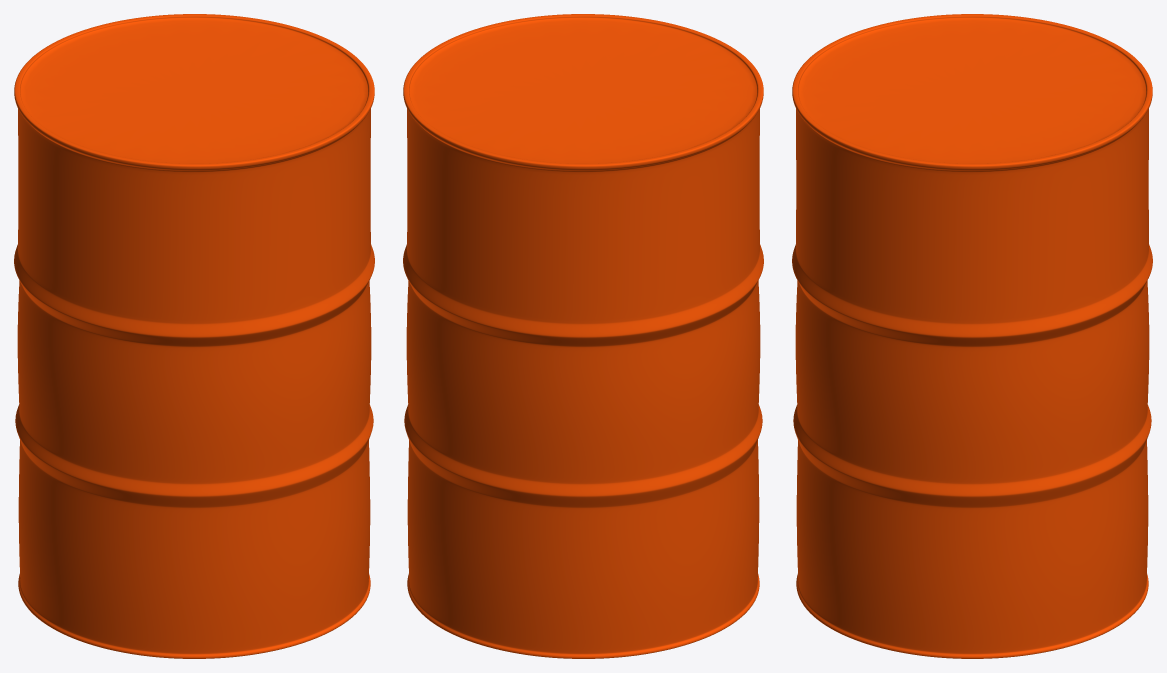
Rendered from baril.glb.
3 renders of one model, left to right at view 1: azimuth 30°, elevation 25°; view 2: azimuth 150°, elevation 25°; view 3: azimuth 270°, elevation 25°, orthographic.
Visible parts, largest first — view 1: Circle; view 2: Circle; view 3: Circle.
Part boxes in pixels (x1=…): Circle: x1=14, y1=14, x2=374, y2=658; Circle: x1=403, y1=14, x2=763, y2=658; Circle: x1=792, y1=14, x2=1152, y2=658.
Bounding box in the file's own units: 2.03 × 3.08 × 2.03.
